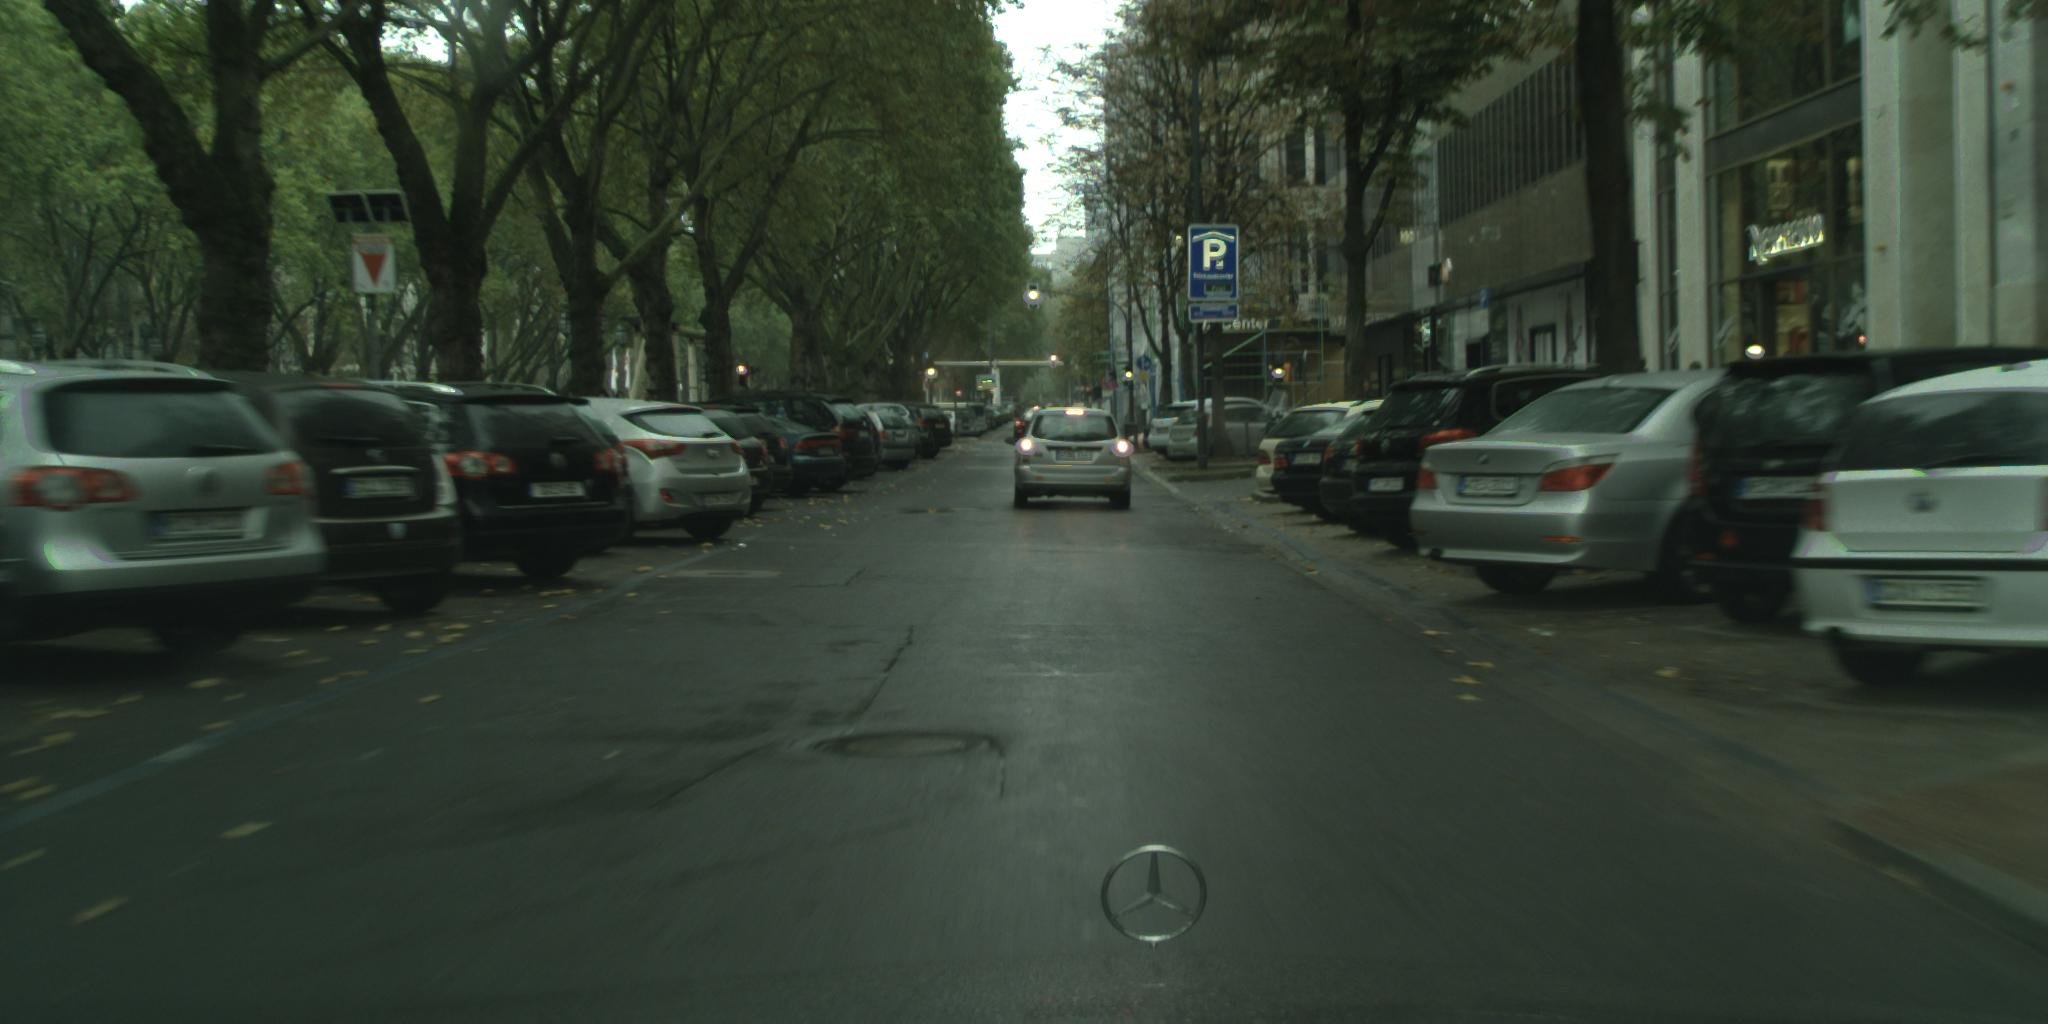car: (1685, 347, 2048, 626), (1, 359, 330, 657), (1789, 360, 2048, 687), (1411, 368, 1733, 596), (199, 371, 468, 616), (360, 381, 630, 583), (1351, 364, 1604, 549), (567, 398, 752, 549), (697, 392, 882, 494), (1006, 408, 1132, 509), (1256, 398, 1388, 495), (563, 398, 636, 559), (677, 405, 795, 502), (677, 405, 775, 520), (1272, 411, 1368, 526), (1320, 408, 1399, 539), (1168, 405, 1293, 465), (1149, 398, 1266, 462), (758, 418, 846, 498), (848, 404, 936, 458), (859, 413, 917, 472), (893, 404, 953, 460), (1015, 408, 1051, 445), (904, 419, 923, 458)
motorcycle: (1258, 391, 1290, 441)
